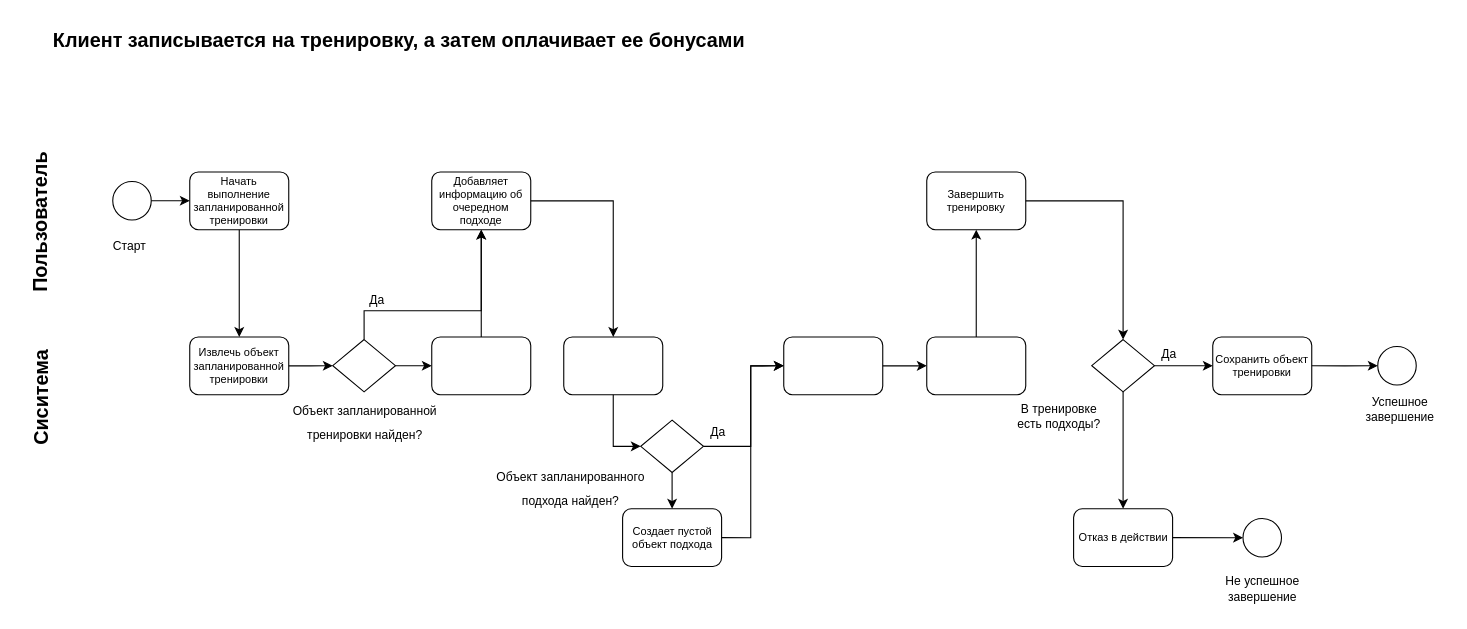
The diagram is 1467 pixels wide and 629 high, and some of its shapes have lost their labels. Each missing label, with the centre of its shape:
Внести изменения в объект подхода: the point at 833,365
Извлечь объект запланированного подхода: the point at 613,365
Создать пустой объект тренировки: the point at 481,365
Сохранить объект подхода: the point at 976,365
